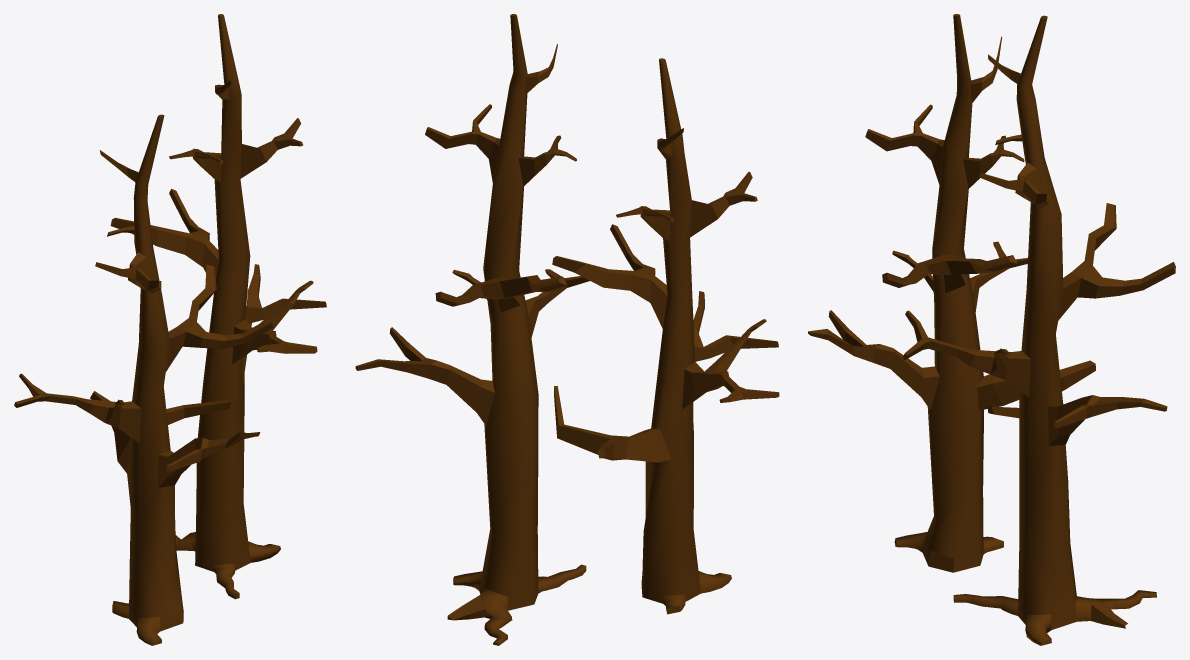
The model's file is baum_d007.FBX.
3 renders of one model, left to right at view 1: azimuth 30°, elevation 25°; view 2: azimuth 150°, elevation 25°; view 3: azimuth 270°, elevation 25°, orthographic. The views are drawn at different scales.
Visible parts, largest first — view 1: Baum_D007; view 2: Baum_D007; view 3: Baum_D007.
Part boxes in pixels (x1,y1,x2,y2): Baum_D007: [14, 14, 326, 645]; Baum_D007: [355, 14, 779, 645]; Baum_D007: [808, 14, 1175, 645].
Bounding box in the file's own units: 38.3 × 59.25 × 33.
